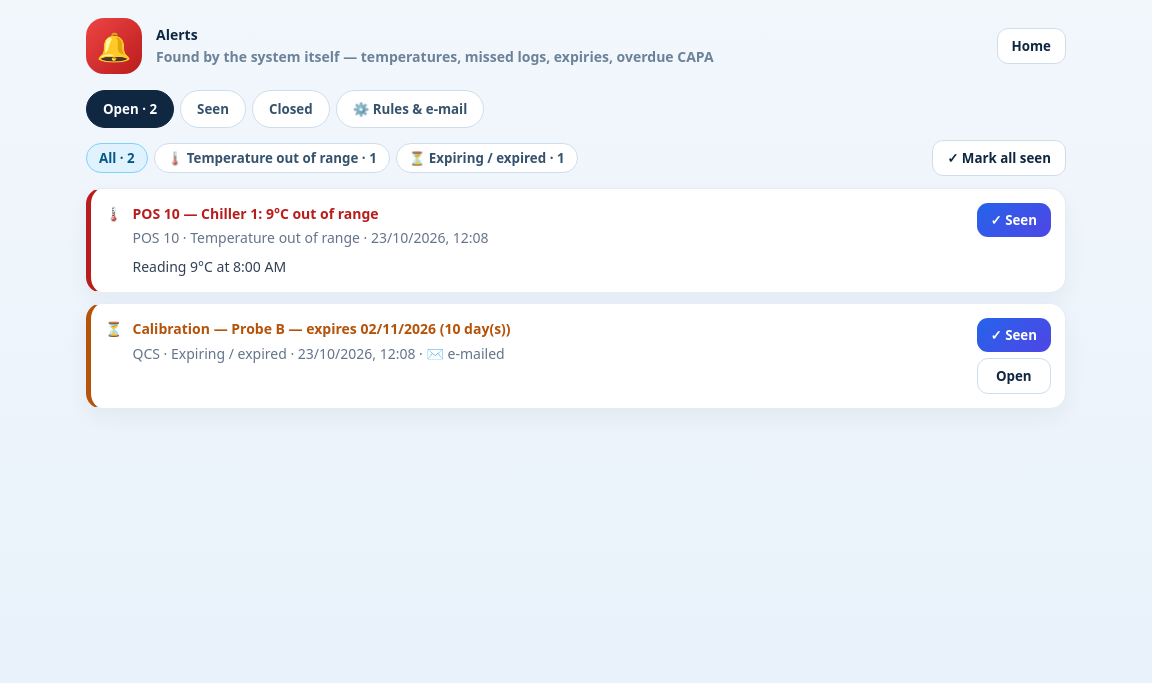
Test: the alerts page lists open alerts and opens the rules tab
The image size is (1152, 683).
Step 1. Click the button "⚙️ Rules & e-mail" → (410, 109), box [336,90,484,128]
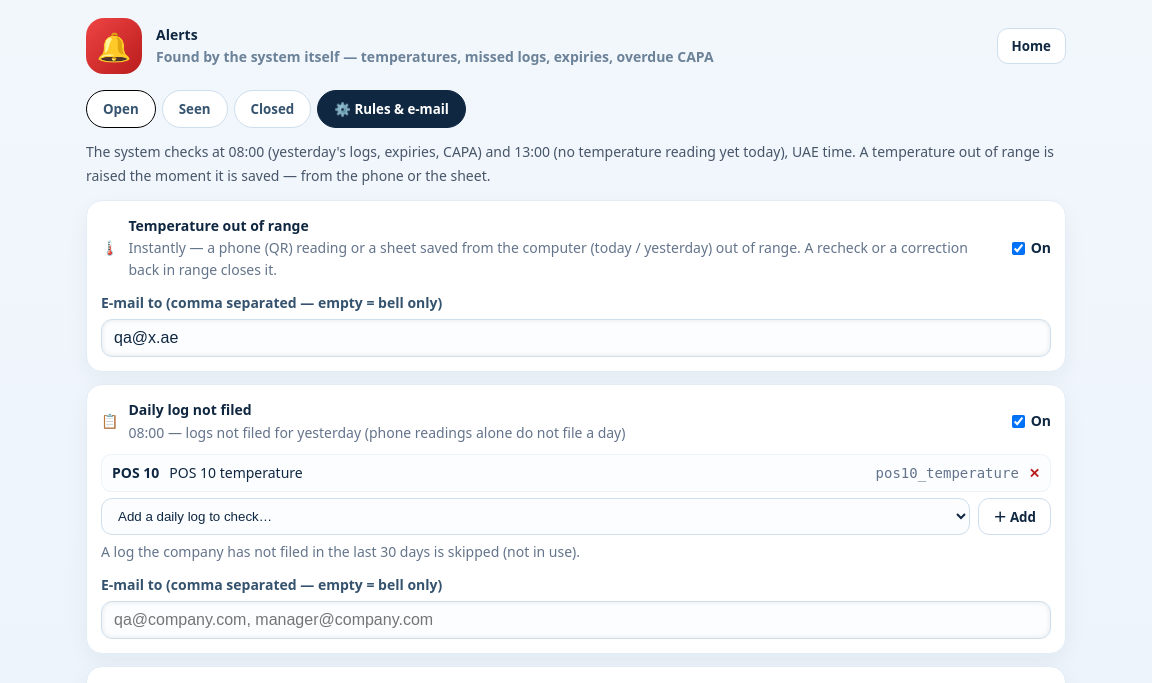
expect the text "pos10_temperature" is shown: met, box [876,462,1019,484]
